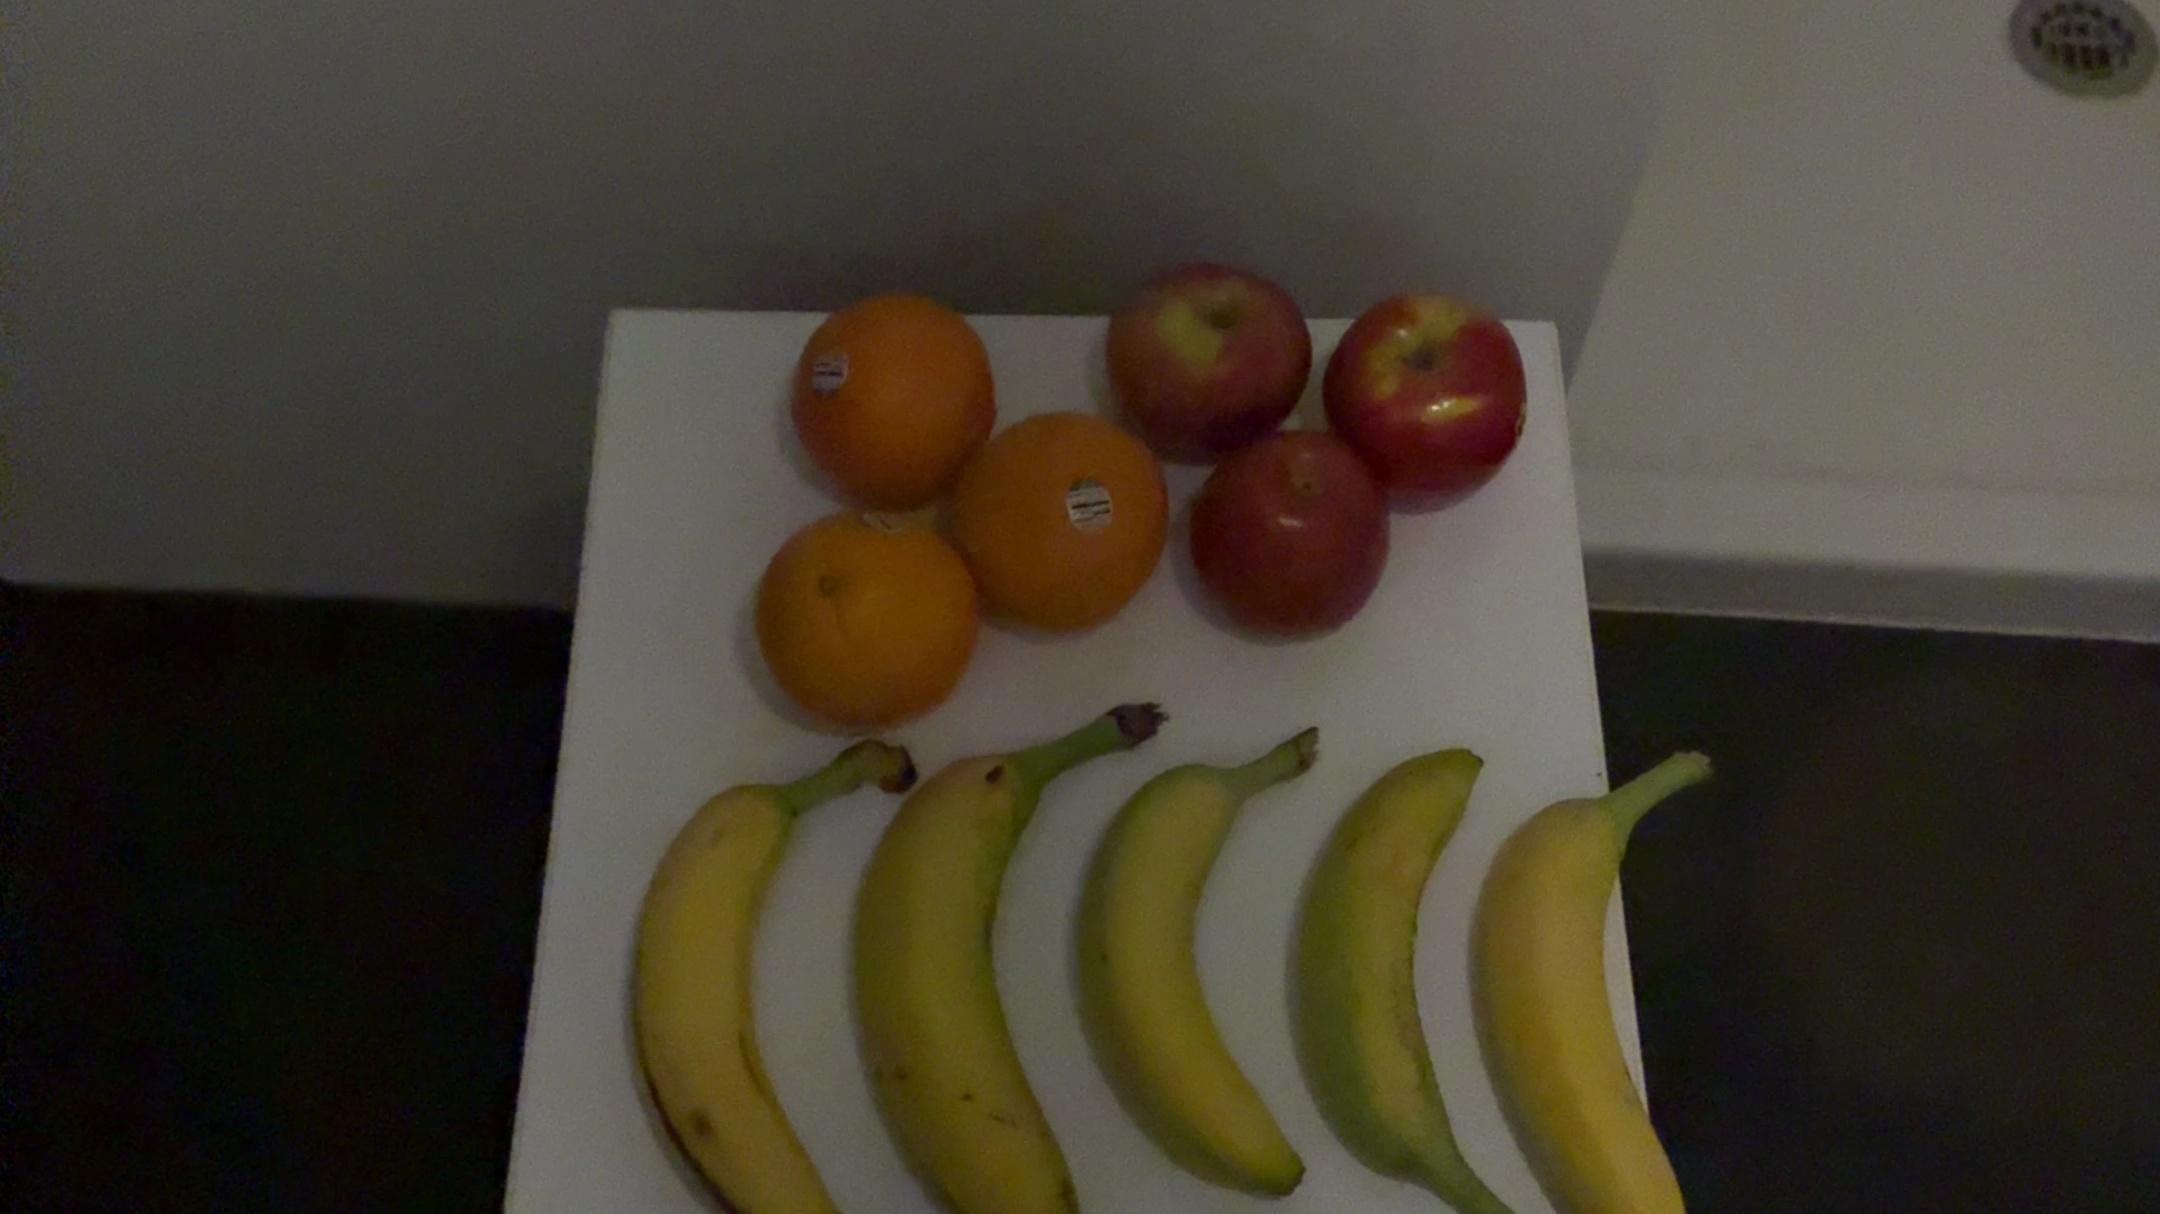apple: (1319, 275, 1525, 519), (1179, 430, 1389, 654), (1099, 255, 1314, 470)
banana: (837, 683, 1172, 1214), (617, 729, 906, 1214), (1472, 726, 1730, 1214), (1076, 712, 1326, 1214), (1280, 732, 1531, 1214)
orange: (748, 497, 969, 747), (955, 404, 1169, 659), (789, 279, 992, 500)
